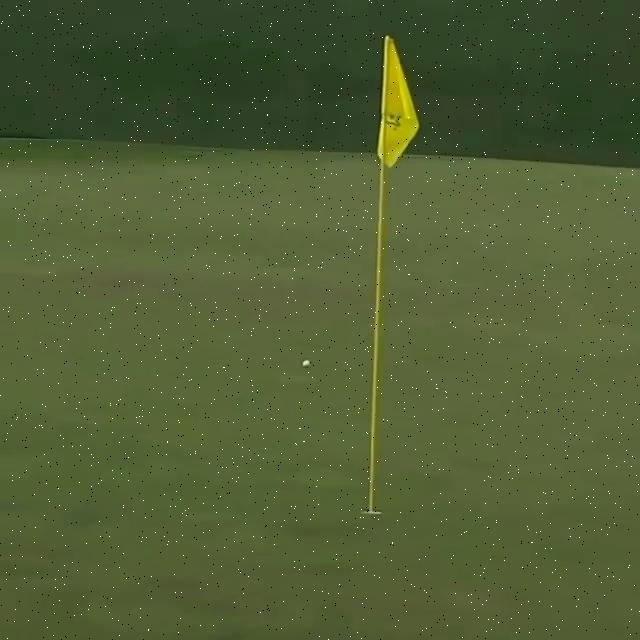GolfBall: (302, 360, 312, 369)
